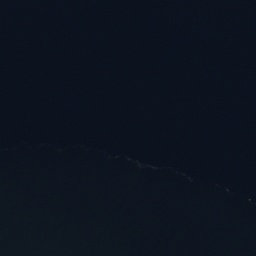Marine Debris: (98, 151, 198, 185), (215, 183, 232, 194), (247, 198, 253, 203)
